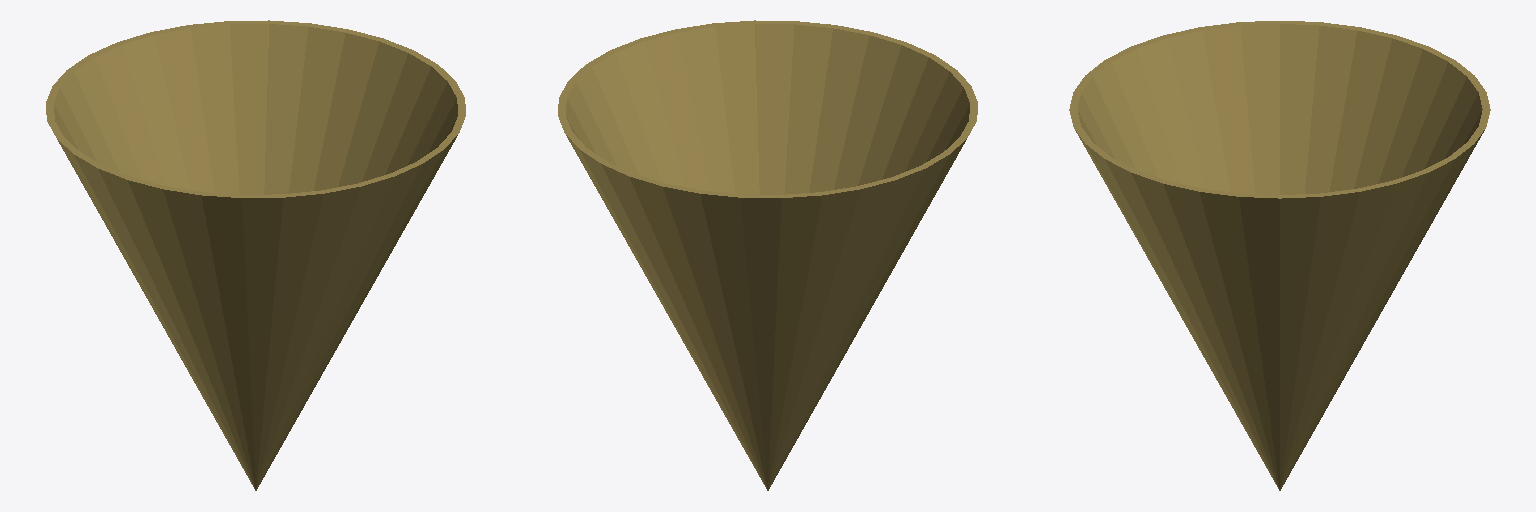
The robot description file, URDF, robot "object":
<?xml version="1.0"?>
<robot name="object">
  <link name="base_link"> <!-- required name-->
    <inertial>
      <origin xyz="0 0 0" /> 
      <mass value="1.0" />
      <inertia  ixx="1.0" ixy="0.0"  ixz="0.0"  iyy="1.0"  iyz="0.0"  izz="1.0" />
    </inertial>
    <visual>
      <origin xyz="0 0 0"/>
      <geometry>
        <!-- cone1 is slightly larger than a cone defined for mu = 0.5 -->
        <mesh filename="package://animals_description/meshes/cone_WP.dae"/>
      </geometry>
    </visual>
  </link>
</robot>

--- Render facts (derived) ---
The picture shows the robot from 3 angles, left to right: view 1: azimuth 30°, elevation 25°; view 2: azimuth 150°, elevation 25°; view 3: azimuth 270°, elevation 25°; orthographic projection.
Robot: object — 1 links, 0 joints (none); root link base_link; default pose: every joint at zero.
Visible links, largest first — view 1: base_link; view 2: base_link; view 3: base_link.
Link boxes in pixels (x1,y1,x2,y2): base_link: [46, 20, 465, 490]; base_link: [558, 20, 977, 490]; base_link: [1069, 21, 1490, 490].
Bounding box of the posed robot: 0.391 × 0.391 × 0.391 m (x, y, z).
Meshes: 1 distinct files referenced, 1 mesh visuals loaded (1 Collada DAE).